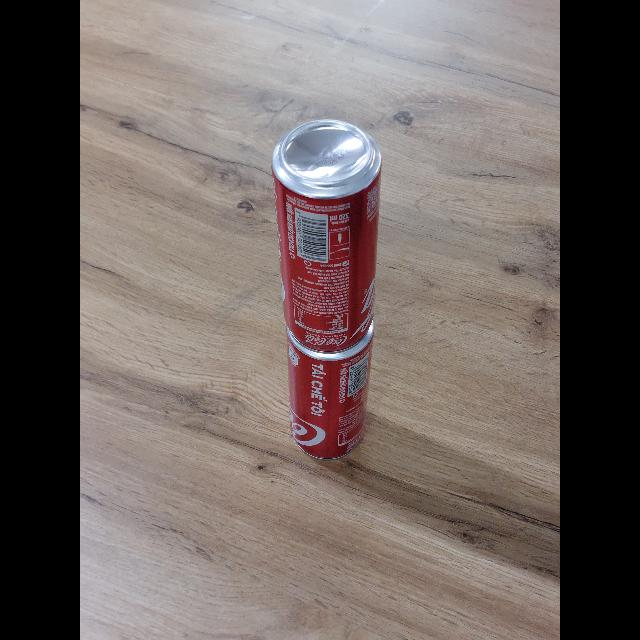coca_cola: (272, 120, 382, 352), (286, 318, 377, 460)
